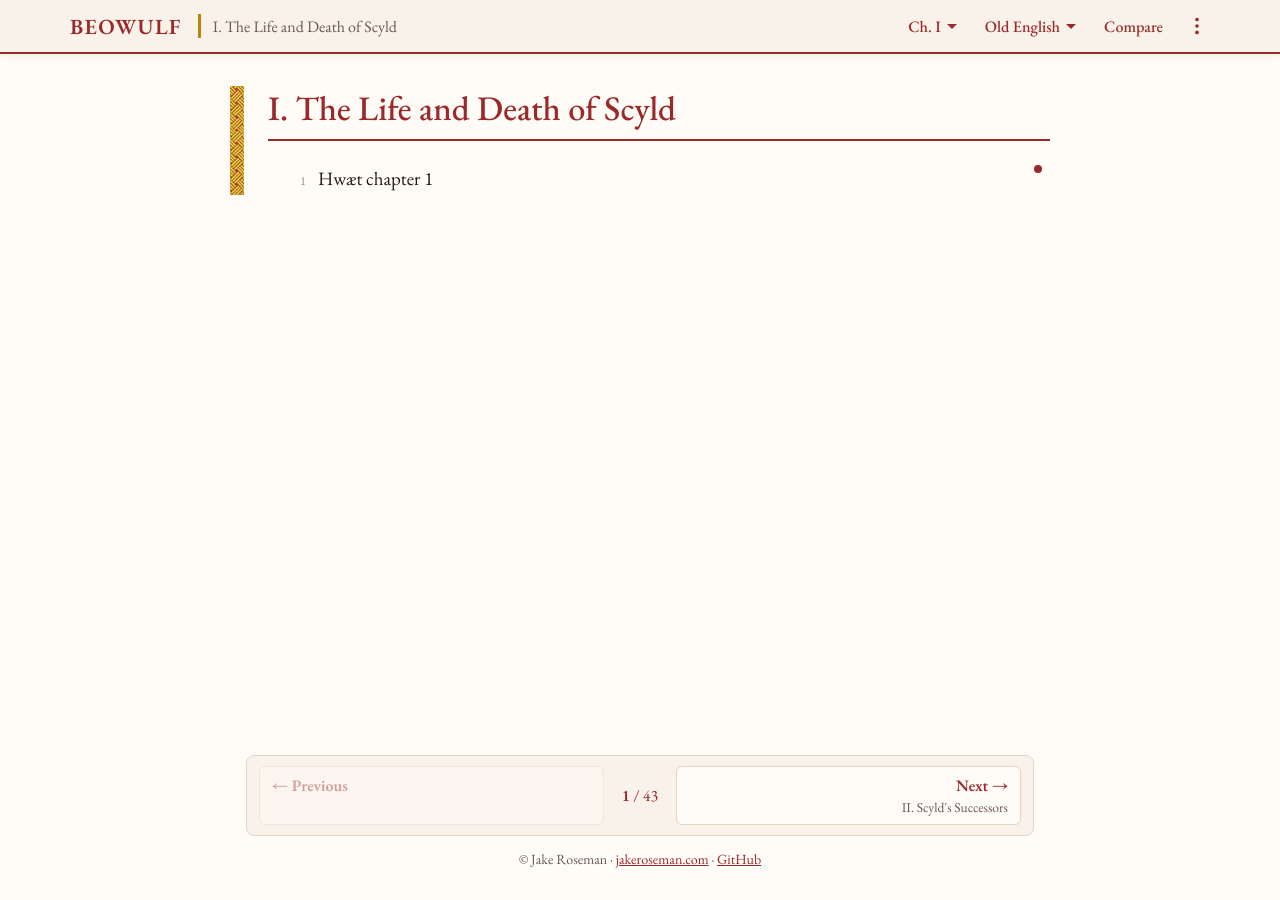
Test: toggles side-by-side compare mode
The width and height of the screenshot is (1280, 900).
Expected: the text "Hwæt chapter 1" is shown, [318,166,433,191]
Click the button "Compare".
click(1134, 26)  # box [1093,8,1174,44]
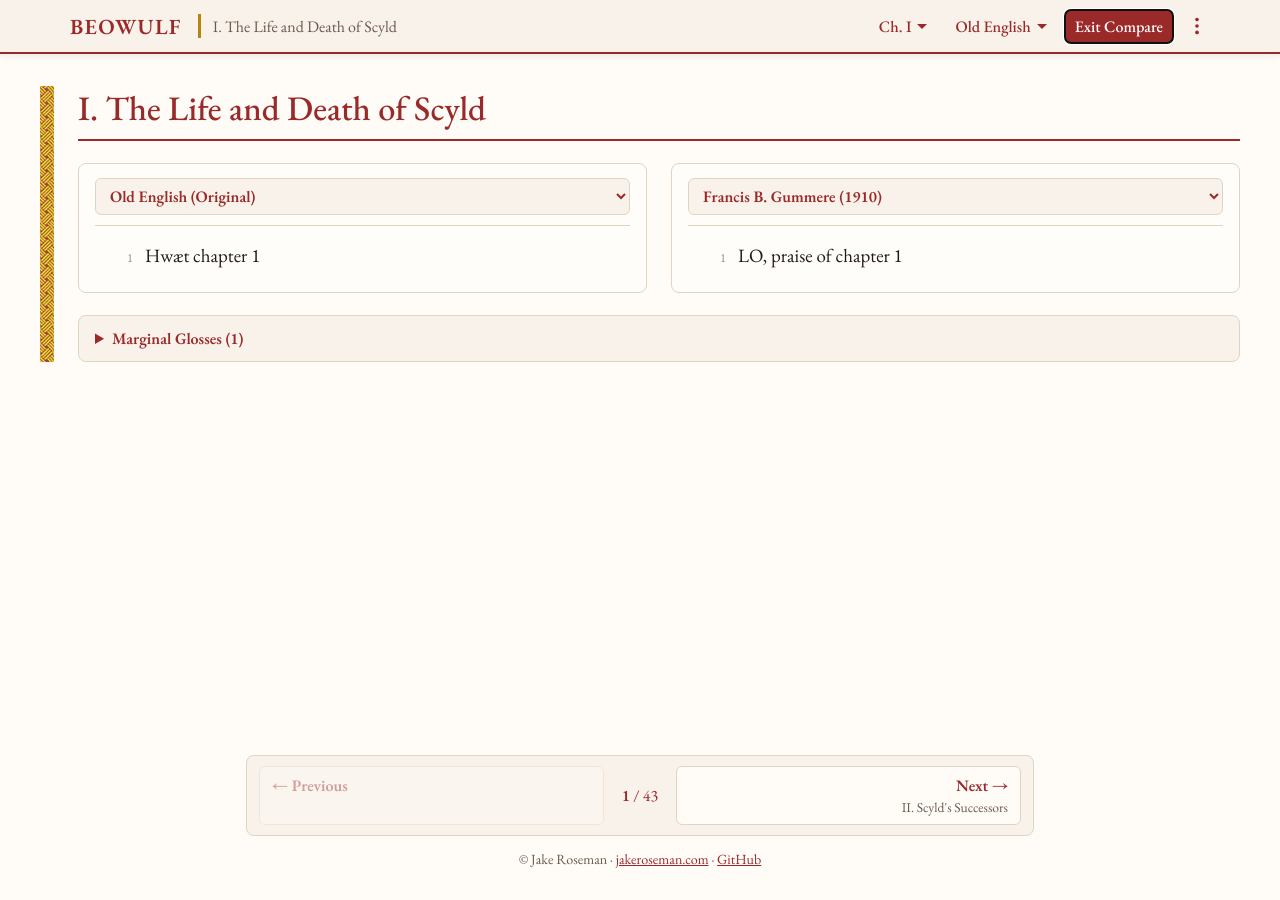
Result: the dropdown named "Primary translation" is shown at [95,178,630,215]
Result: the dropdown named "Comparison translation" is shown at [688,178,1223,215]
Result: the text "LO, praise of chapter 1" is shown at [738,243,903,268]
